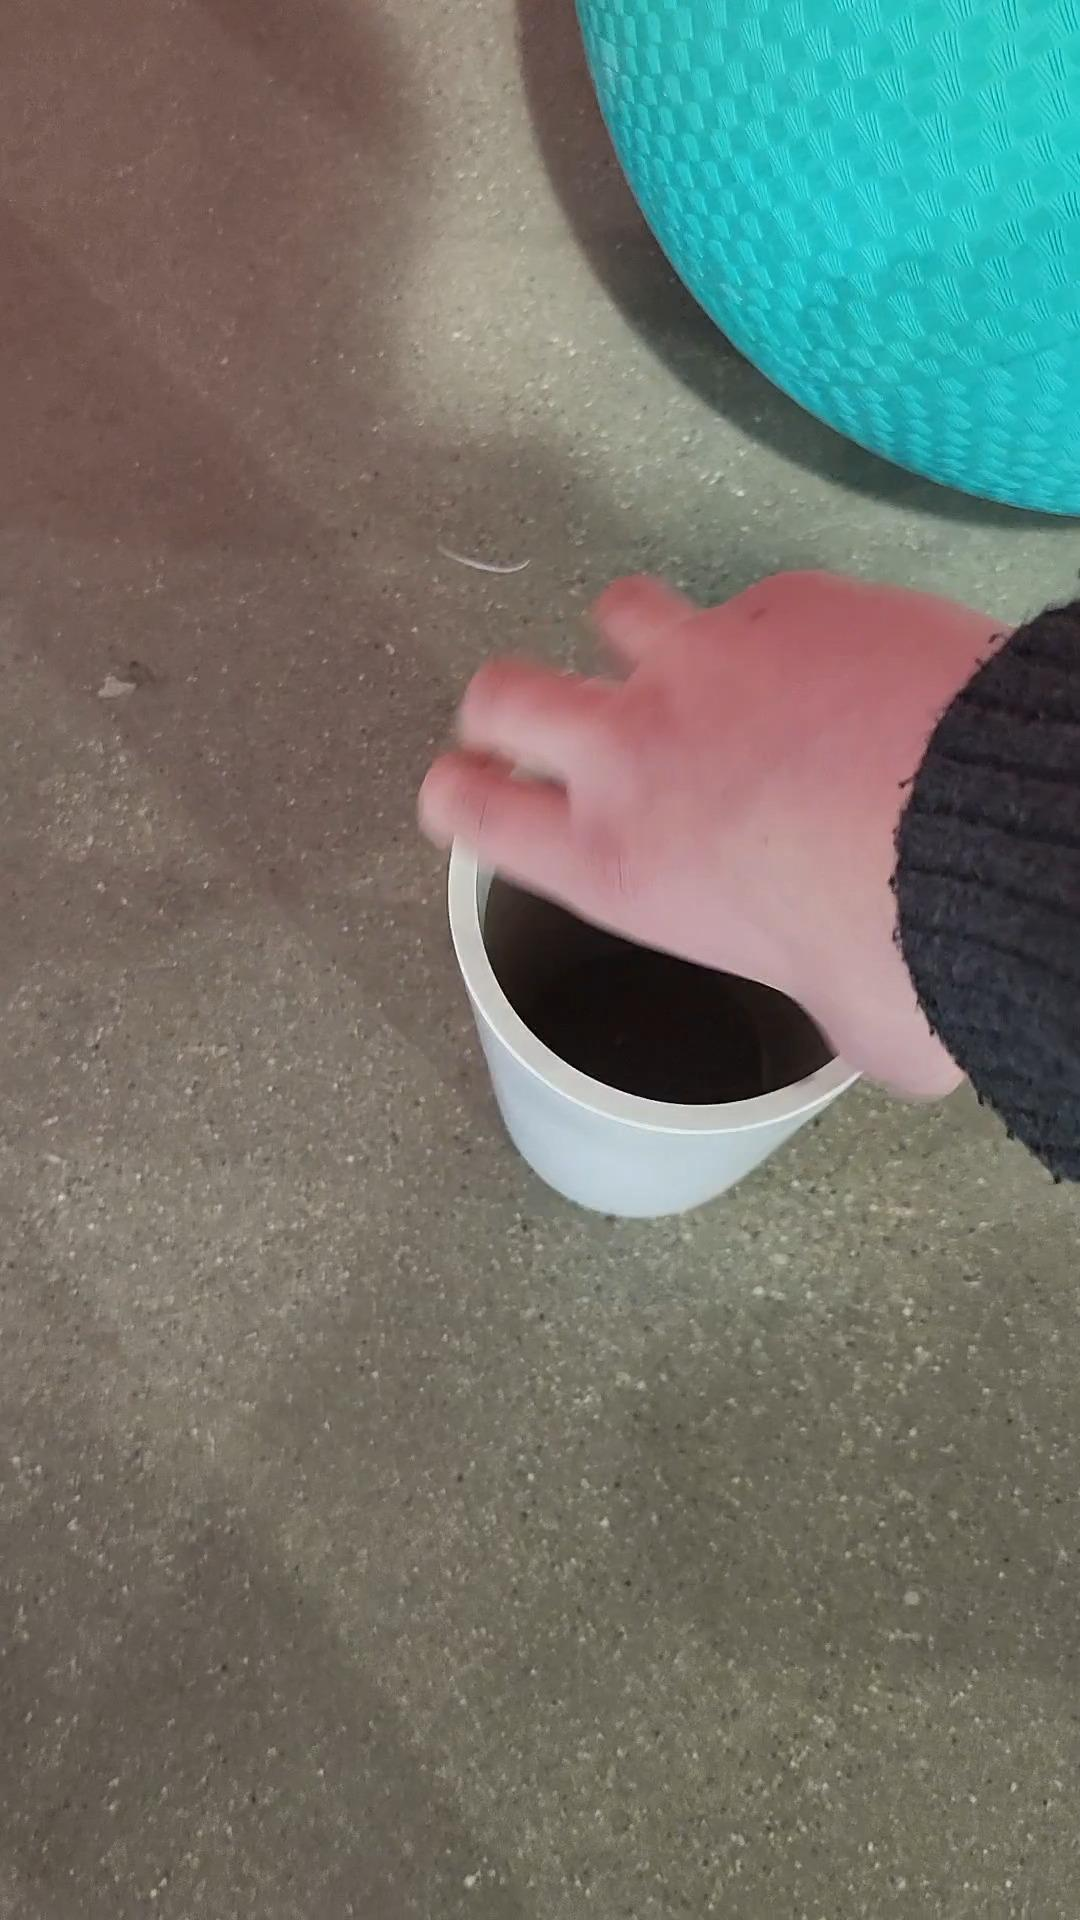algae: (551, 0, 1080, 553)
coral: (392, 736, 886, 1237)
